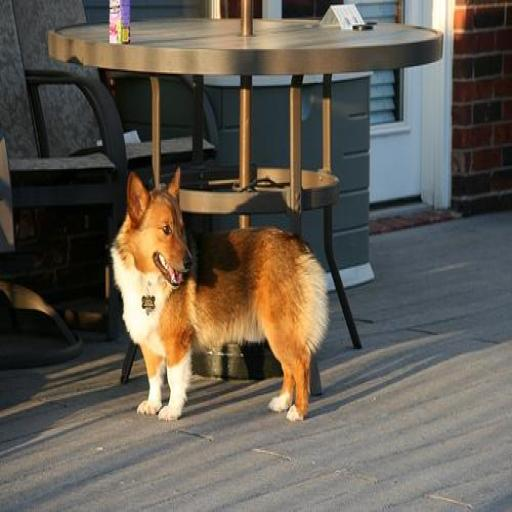dog_face: (127, 170, 203, 284)
